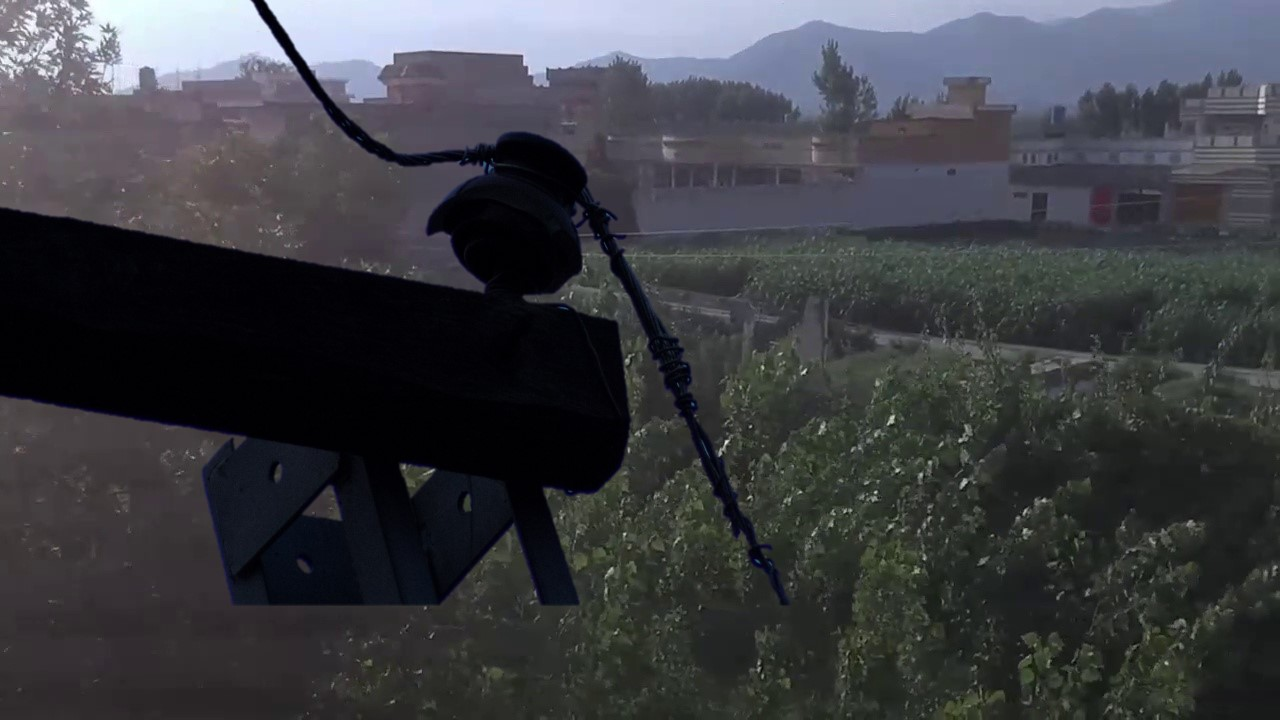defect_pin: (423, 127, 595, 303)
